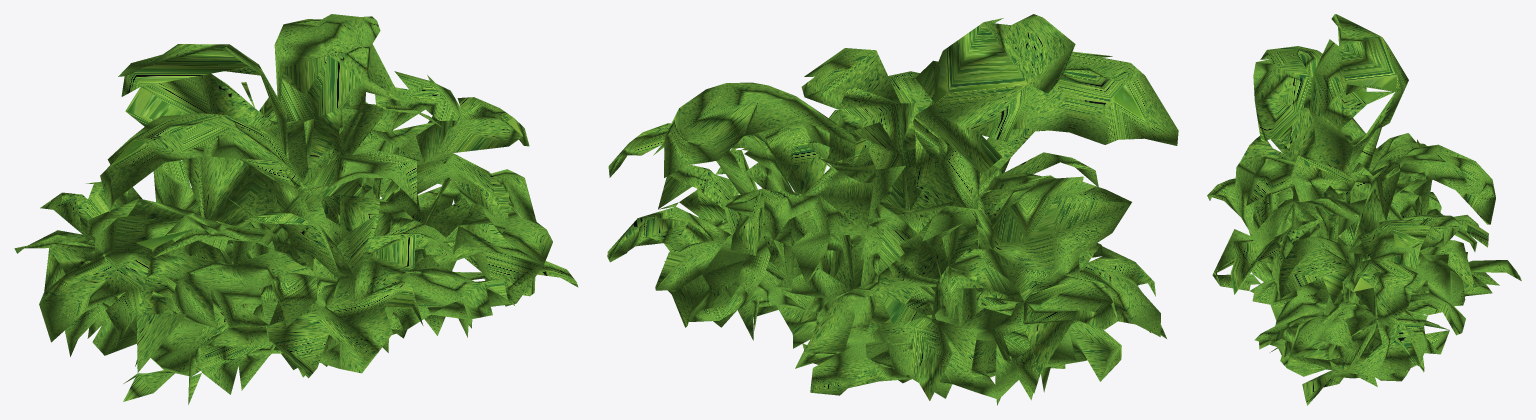
File: bush_cluster.lod.rt.glb
The picture shows the model from 3 angles, left to right: view 1: azimuth 30°, elevation 25°; view 2: azimuth 150°, elevation 25°; view 3: azimuth 270°, elevation 25°; orthographic projection. The views are drawn at different scales.
Parts seen in each view (by area): view 1: output_unwrapped; view 2: output_unwrapped; view 3: output_unwrapped.
Part boxes in pixels (x1,y1,x2,y2): output_unwrapped: (14,14,578,404); output_unwrapped: (607,14,1178,405); output_unwrapped: (1207,14,1521,405).
Size of the model in its own units: 1.88 by 1.2 by 1.33.
1 material, 1 textured.
